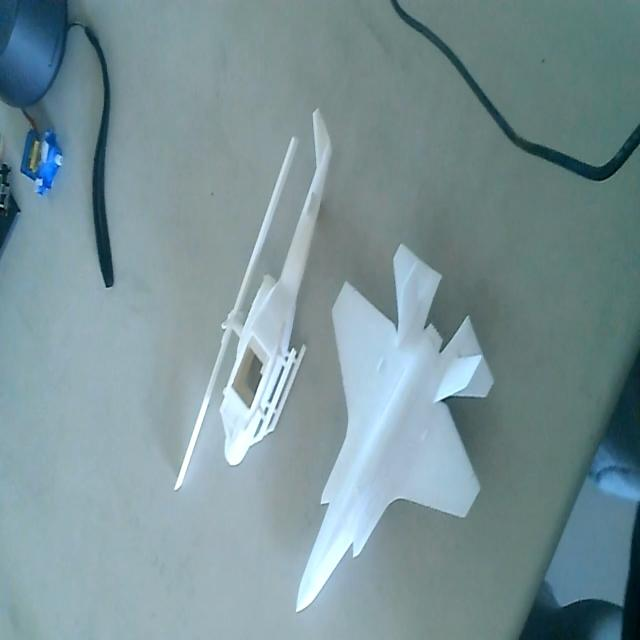Helicopter: (175, 106, 335, 498)
Jet: (295, 240, 494, 617)
